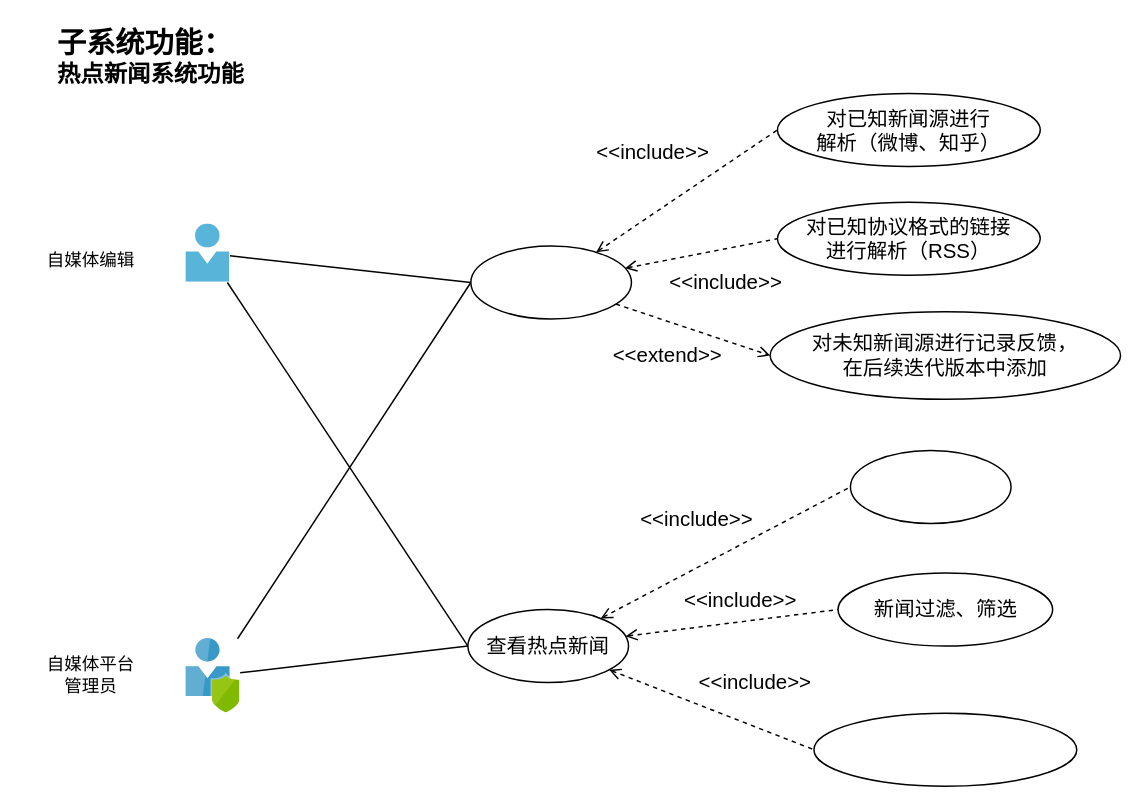
The diagram is 1146 pixels wide and 812 high, and some of its shapes have lost their labels. The shapes that lost their labels are listed below. From the top down, each one's centre as x and y in pixels, then its label:
At pixel 550 282: "添加新闻源".
At pixel 930 486: "获取最新新闻".
At pixel 944 749: "按新闻分类进行阅览".
